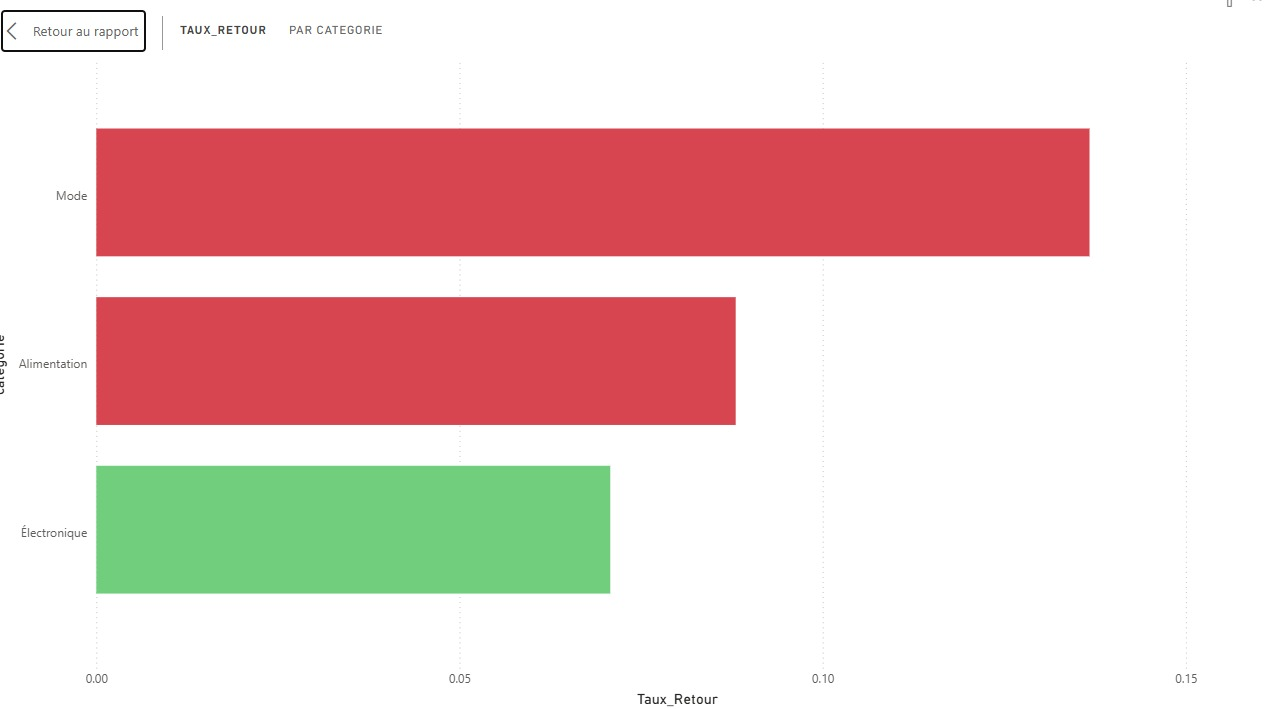

What the dashboard file says about the page in this screenshot:
{"tool":"powerbi","page":{"name":"Page 4","canvas":[1280,720],"ordinal":3},"visuals":[{"type":"clusteredBarChart","fields":{"Category":["dw dim_produits.categorie"],"Y":["dw fact_ventes.Taux_Retour"]},"box":[60,80,361.1,280],"z":1}]}

Visuals, with their boxes on the page's 1280x720 design canvas (x1, y1, x2, y2). These are canvas units, not pixel positions in the 1264x709 screenshot, which may show the page scaled, cropped or inside an application window:
clusteredBarChart - dw dim_produits.categorie x dw fact_ventes.Taux_Retour: detection(60, 80, 421, 360)
